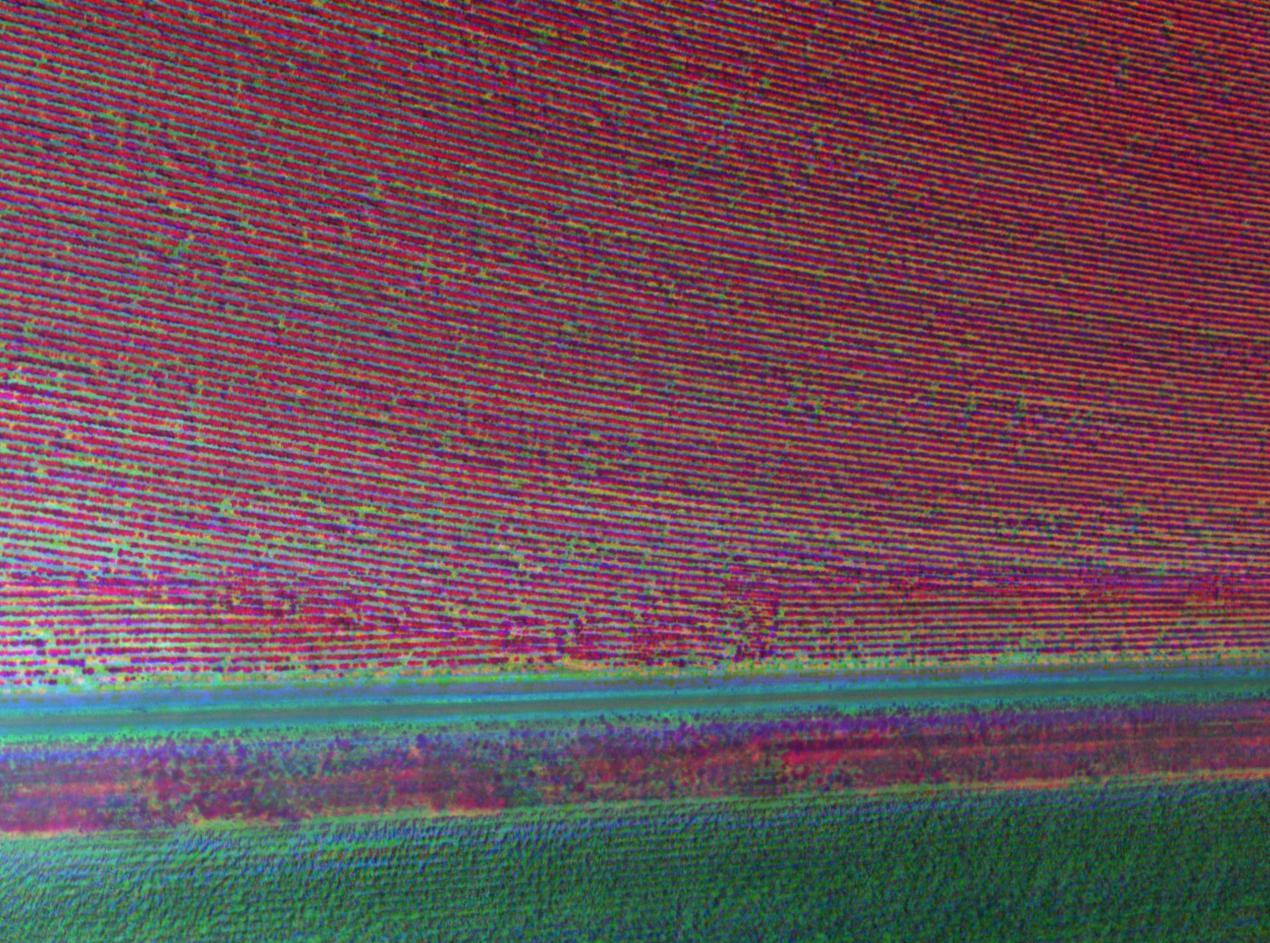dc: (426, 263, 429, 267), (390, 292, 393, 296), (481, 273, 484, 276), (621, 234, 624, 236)
